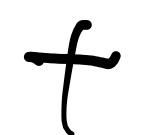plus: (24, 19, 121, 135)
